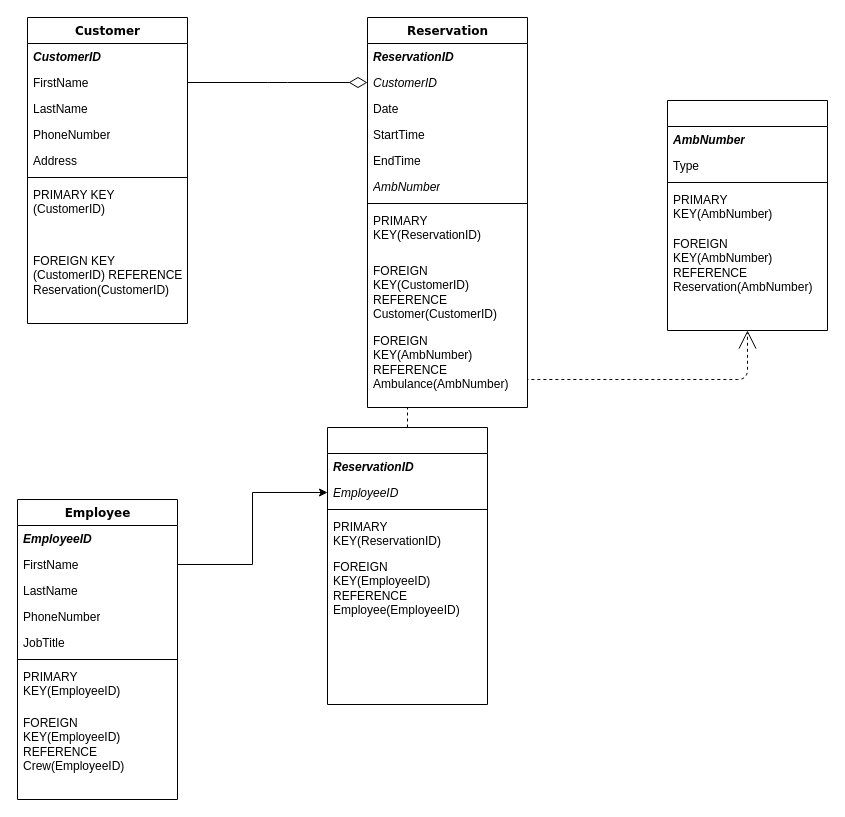
Some shapes in this 845 by 817 pixel diagram are drawn without their labels. Here are the shapes that lost their labels. From the top down, the box of each, then its label:
(666, 100, 828, 330): Ambulance
(326, 426, 488, 704): Crew
